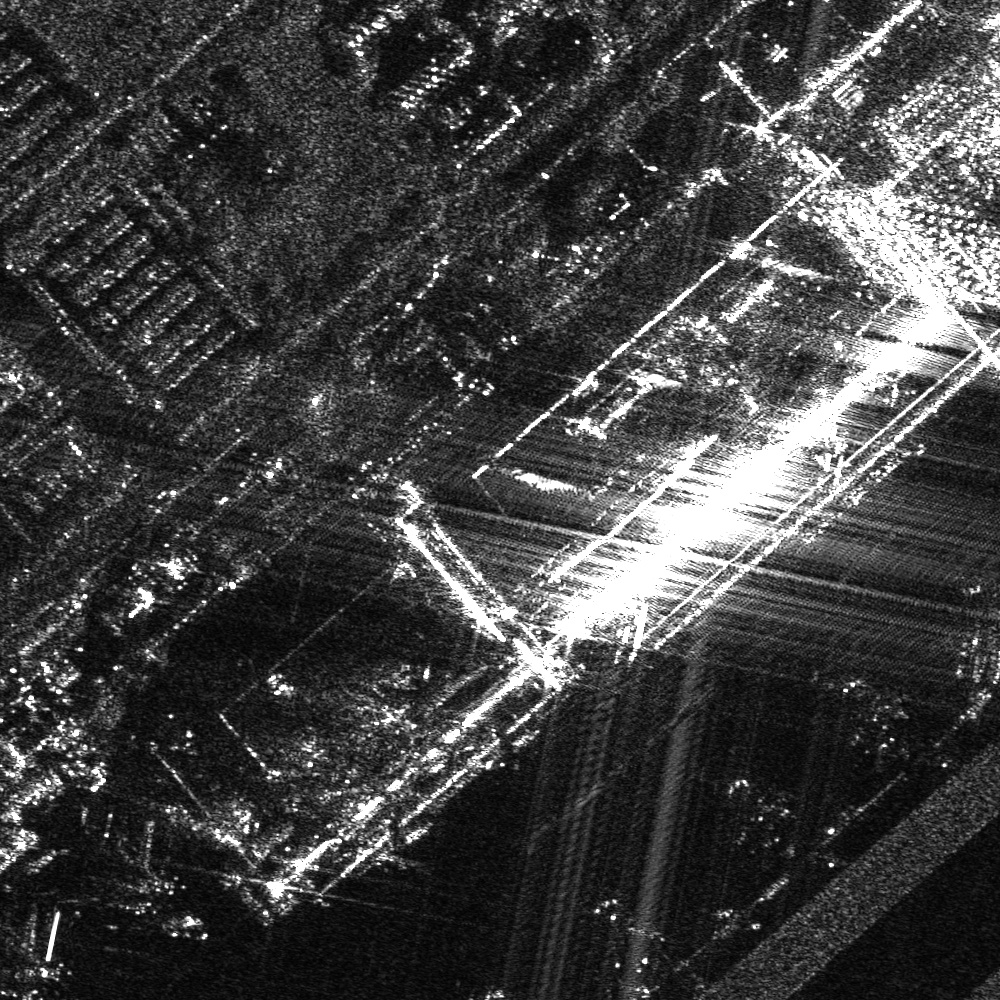Boeing787: (73, 812, 171, 897), (1, 909, 66, 992)
other: (592, 889, 680, 976), (839, 677, 912, 765), (721, 772, 797, 854)
